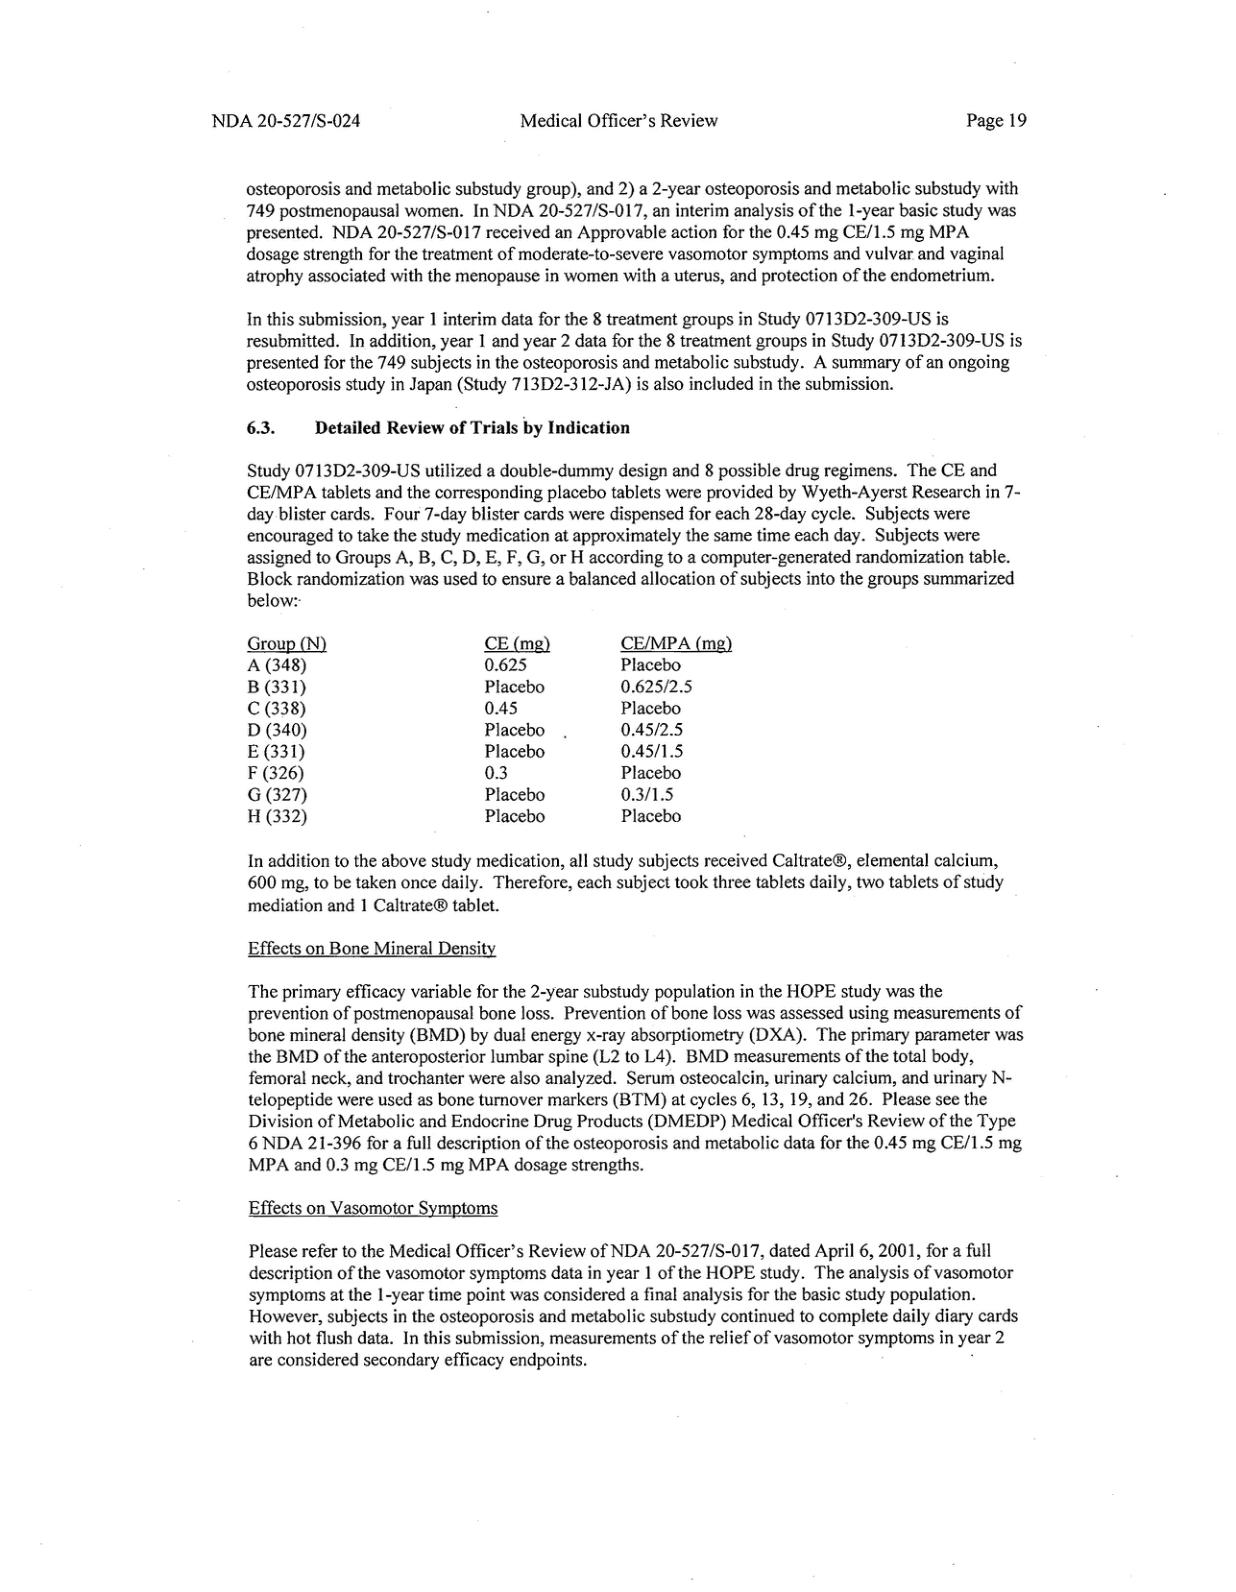nolines: (244, 631, 734, 827)
